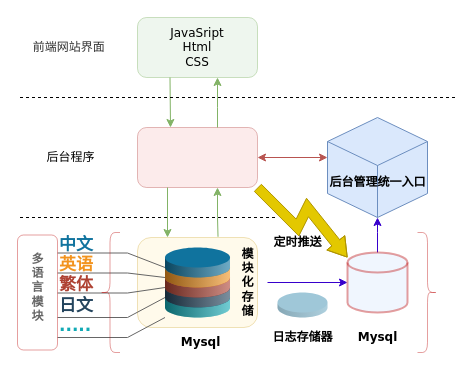
The diagram is 476 pixels wide and 375 high, and some of its shapes have lost their labels. Here are the shapes that lost their labels. From the top down, the box of each, then its label:
(136, 126, 258, 188): Java
(346, 251, 408, 313): SEO推送池
